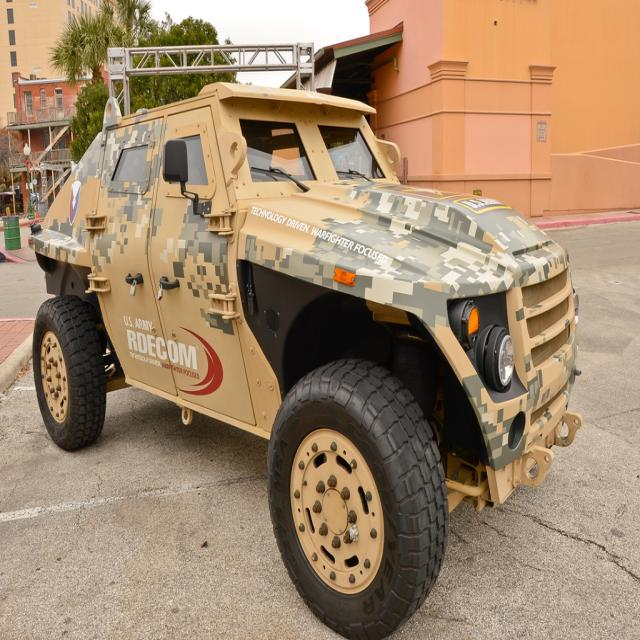car: (30, 79, 584, 638)
